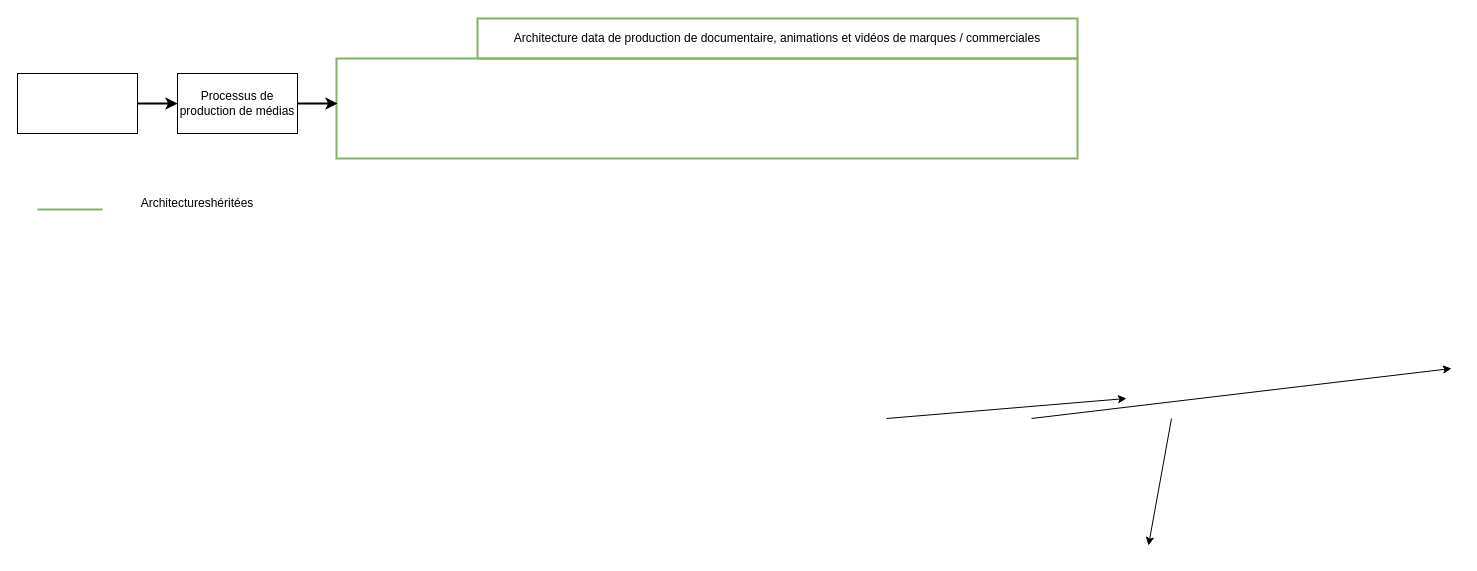
This 1477x571 diagram has some shape labels left out. Each missing label, with the box of its shape:
Architectures data héritées: (335, 57, 1078, 159)
Gibberish: (16, 72, 138, 134)
